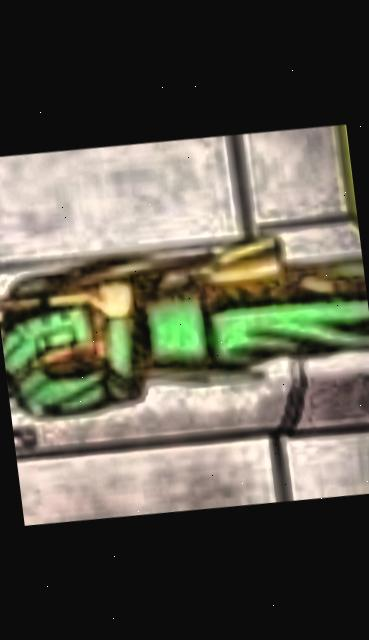El Soldado: (0, 114, 369, 534)
